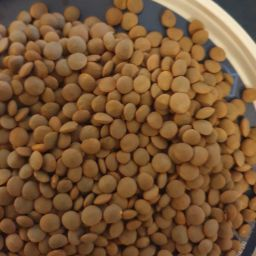Black Lentil(masoor daal): (2, 4, 255, 255), (25, 52, 162, 233)
